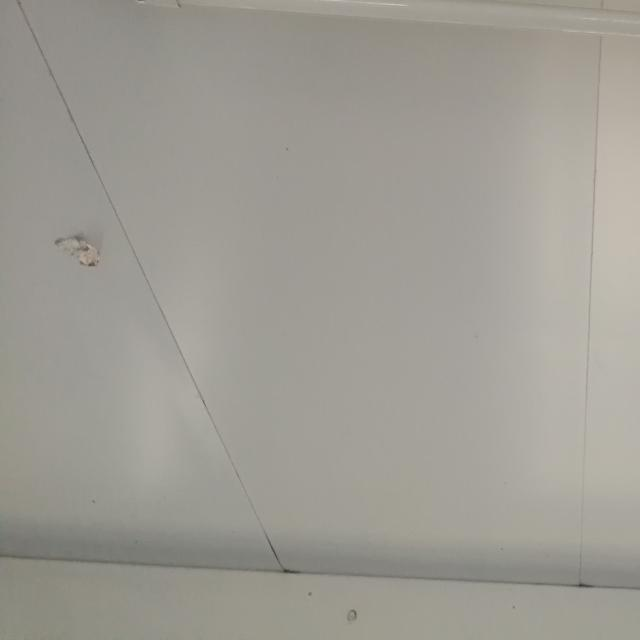fluorescent tube: (85, 0, 639, 123)
